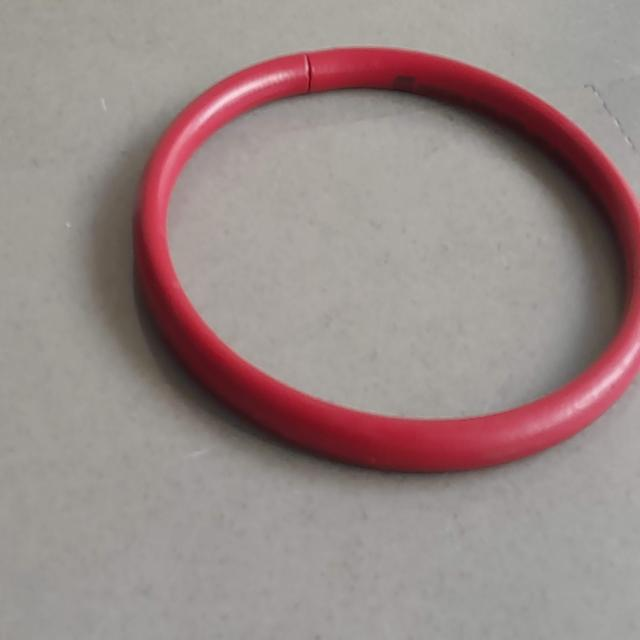daire: (138, 43, 640, 474)
